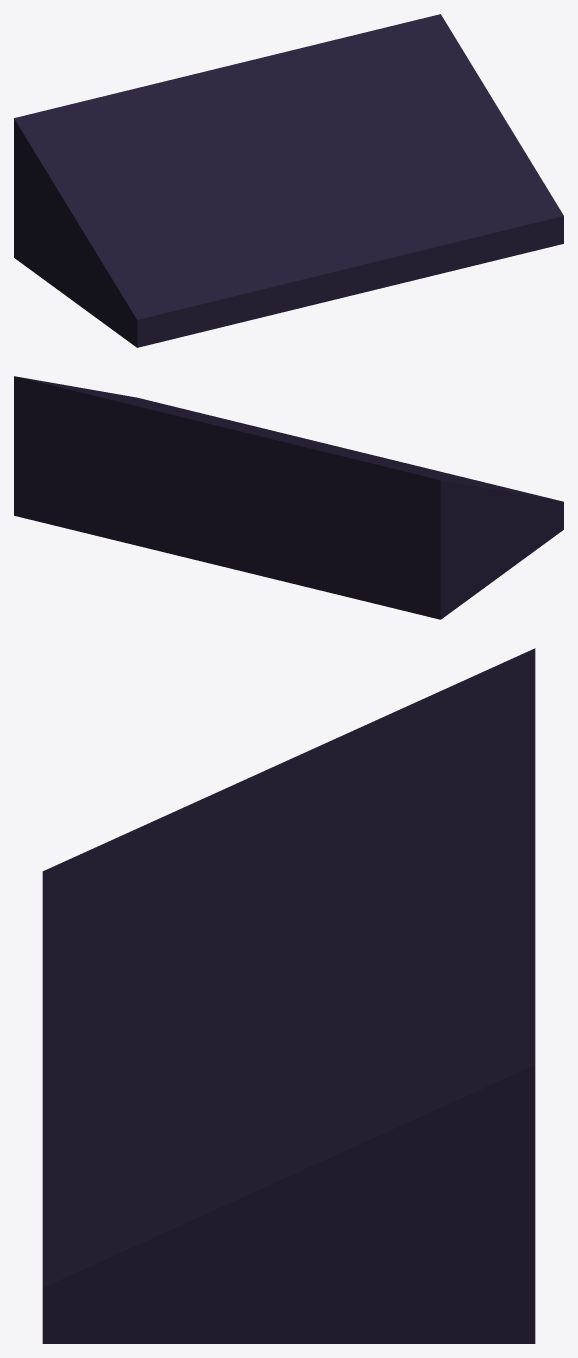
Rendered from BRoofPanel_A.fbx.
3 renders of one model, top to bottom at view 1: azimuth 30°, elevation 25°; view 2: azimuth 150°, elevation 25°; view 3: azimuth 270°, elevation 25°, orthographic. The views are drawn at different scales.
Parts seen in each view (by area): view 1: BRoofPannel_A; view 2: BRoofPannel_A; view 3: BRoofPannel_A.
Boxes of the visible parts, x1,y1,x2,y2 form: BRoofPannel_A: (14,14,563,347); BRoofPannel_A: (14,376,563,619); BRoofPannel_A: (42,648,535,1343).
Size of the model in its own units: 800 by 250 by 400.
